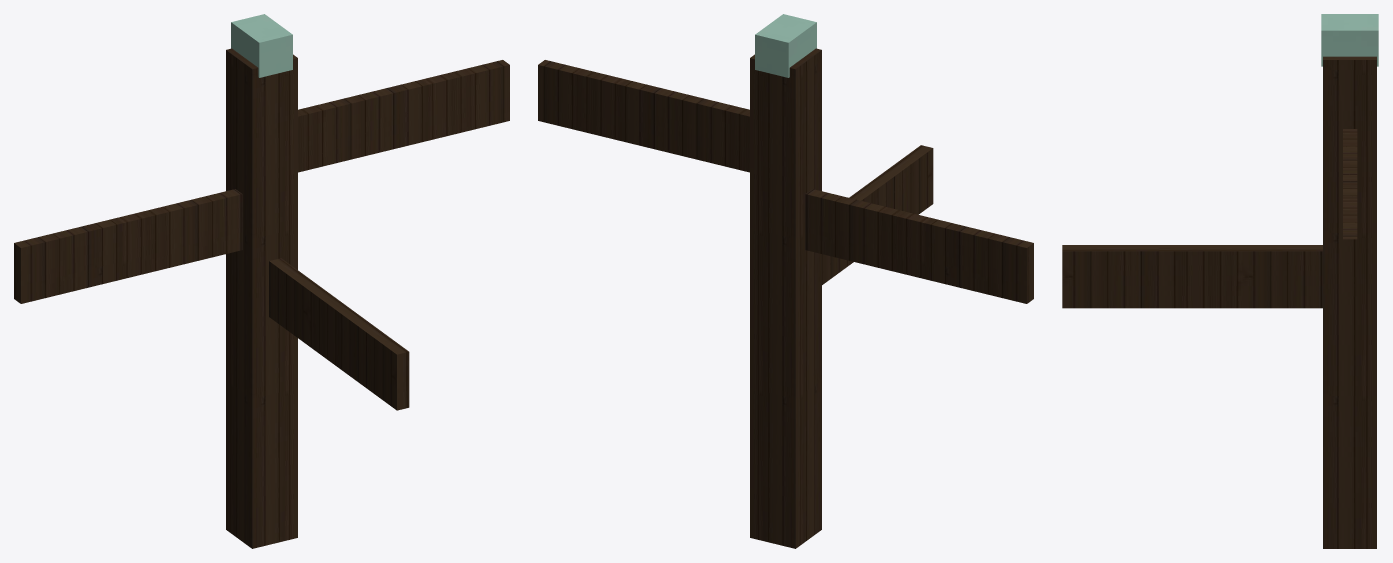
The model's file is fork_signpost_01.glb.
3 renders of one model, left to right at view 1: azimuth 30°, elevation 25°; view 2: azimuth 150°, elevation 25°; view 3: azimuth 270°, elevation 25°, orthographic.
Parts seen in each view (by area): view 1: fork_signpost_01; view 2: fork_signpost_01; view 3: fork_signpost_01.
Part boxes in pixels (box(x1,y1,x2,y2)): fork_signpost_01: box(14, 14, 509, 548); fork_signpost_01: box(538, 14, 1033, 548); fork_signpost_01: box(1062, 14, 1378, 548).
Bounding box in the file's own units: 3.2 × 3.16 × 1.76.
Materials: 2 (2 with a texture image).
